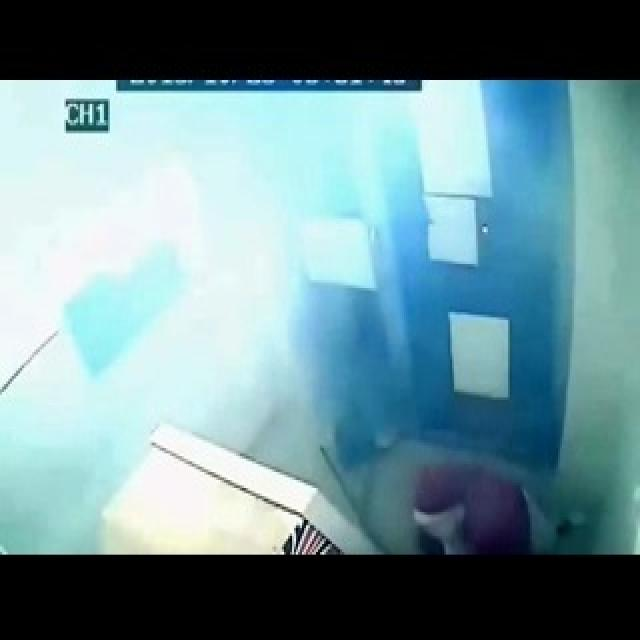thief: (390, 458, 538, 551)
